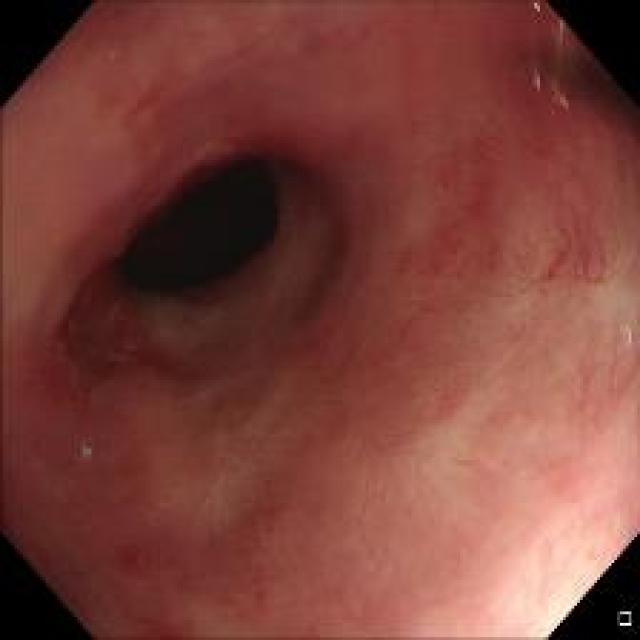bubbles: (570, 256, 586, 280)
color misalignment: (80, 434, 100, 472), (618, 316, 635, 354), (521, 0, 549, 21), (555, 71, 565, 110), (531, 65, 544, 91)
contrast: (86, 146, 298, 301)
saturation: (446, 519, 614, 632)
